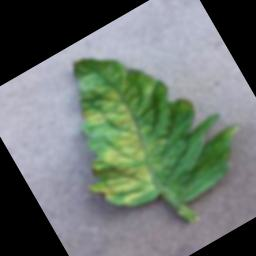Leaf_Mold: (46, 78, 176, 224)
